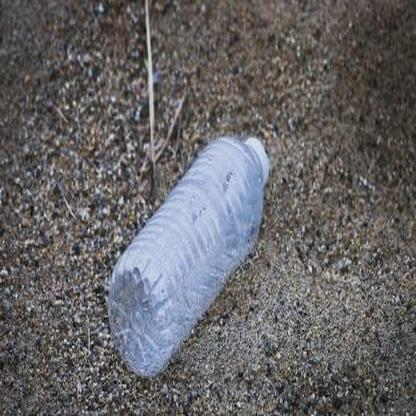plastic bottle: (105, 135, 271, 378)
